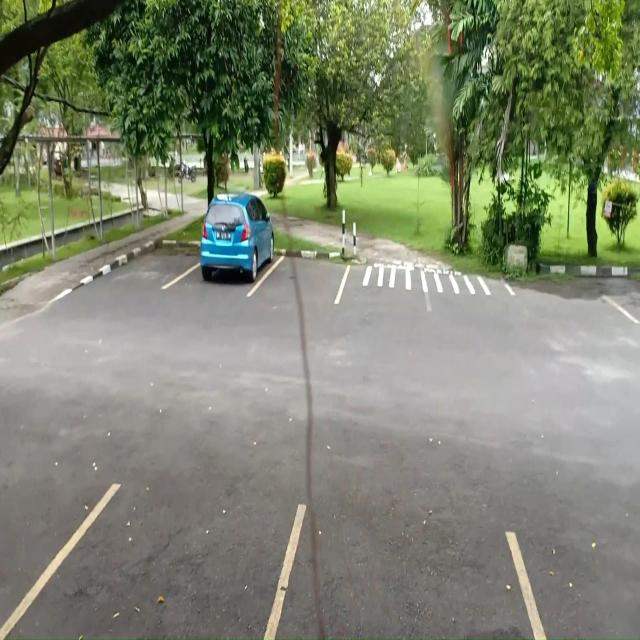empty: (46, 459, 284, 637), (282, 470, 529, 640), (268, 236, 344, 305)
occupied: (191, 227, 276, 294)
